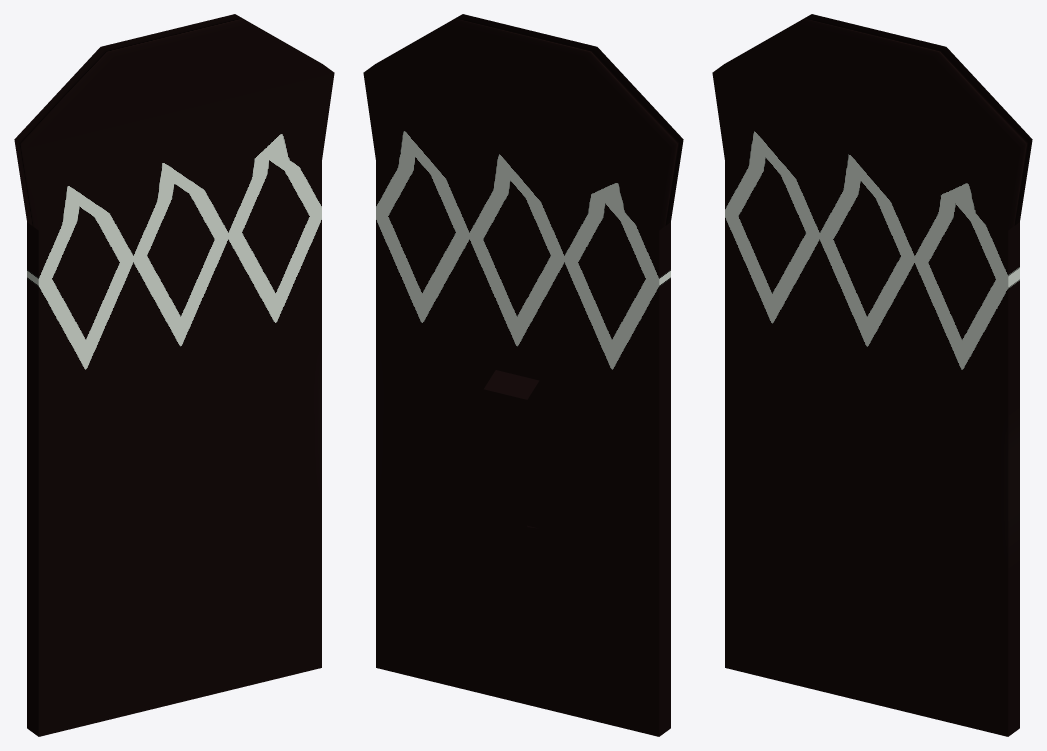
Rendered from yayoi_s_tedate_d.dae.
3 views of the same model, side by side, from view 1: azimuth 30°, elevation 25°; view 2: azimuth 150°, elevation 25°; view 3: azimuth 330°, elevation 25° (orthographic).
Visible parts, largest first — view 1: shield_tedate_d; view 2: shield_tedate_d; view 3: shield_tedate_d.
Boxes of the visible parts, x1,y1,x2,y2 form: shield_tedate_d: (14,14,334,736); shield_tedate_d: (363,14,683,736); shield_tedate_d: (712,14,1032,736).
Size of the model in its own units: 1.13 by 0.157 by 2.33.
Materials: 1 (1 with a texture image).
